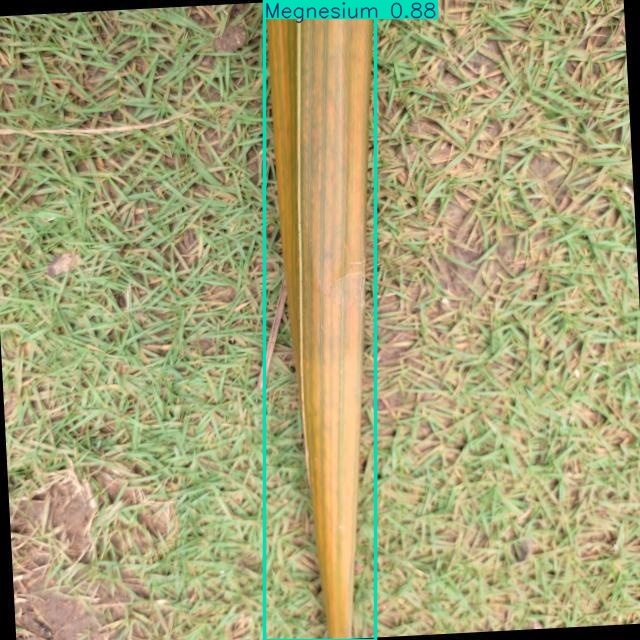Megnesium: (264, 0, 375, 640)
